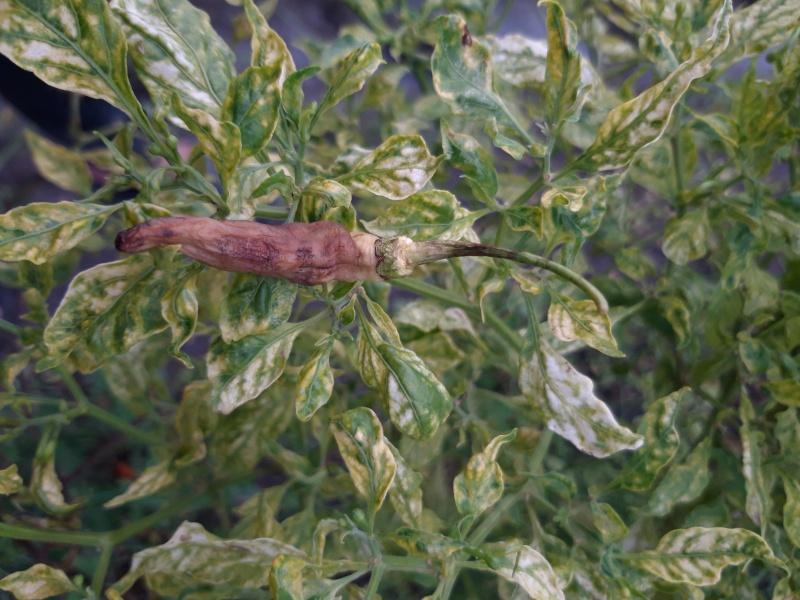antraknosa: (115, 214, 380, 289)
